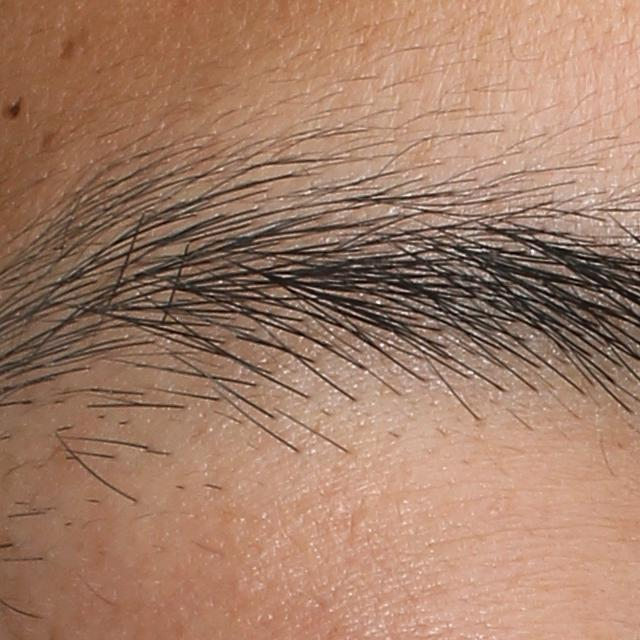nevus: (0, 93, 27, 123)
